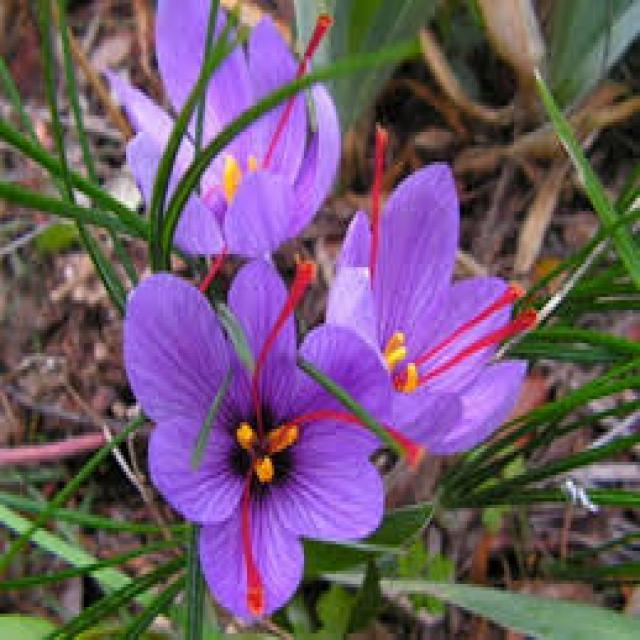Flower: (123, 261, 375, 611), (120, 10, 328, 259), (357, 170, 522, 480)
stigma: (396, 275, 538, 390), (257, 7, 342, 172), (249, 251, 314, 431), (305, 408, 423, 463), (238, 478, 262, 614), (364, 118, 386, 255)
